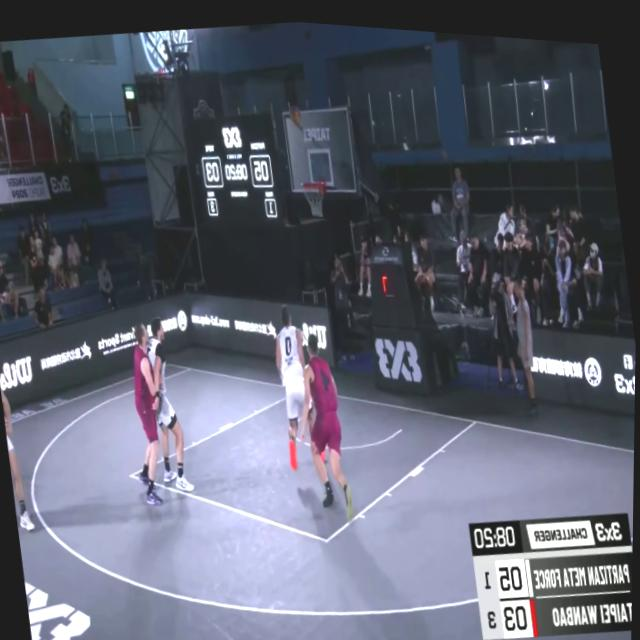ball: (287, 95, 303, 125)
hoop: (301, 170, 332, 215)
player: (283, 320, 357, 515), (266, 289, 334, 473), (138, 311, 198, 498), (121, 319, 179, 508), (0, 348, 37, 532)
